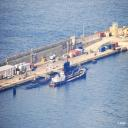submarine: (14, 63, 91, 95)
